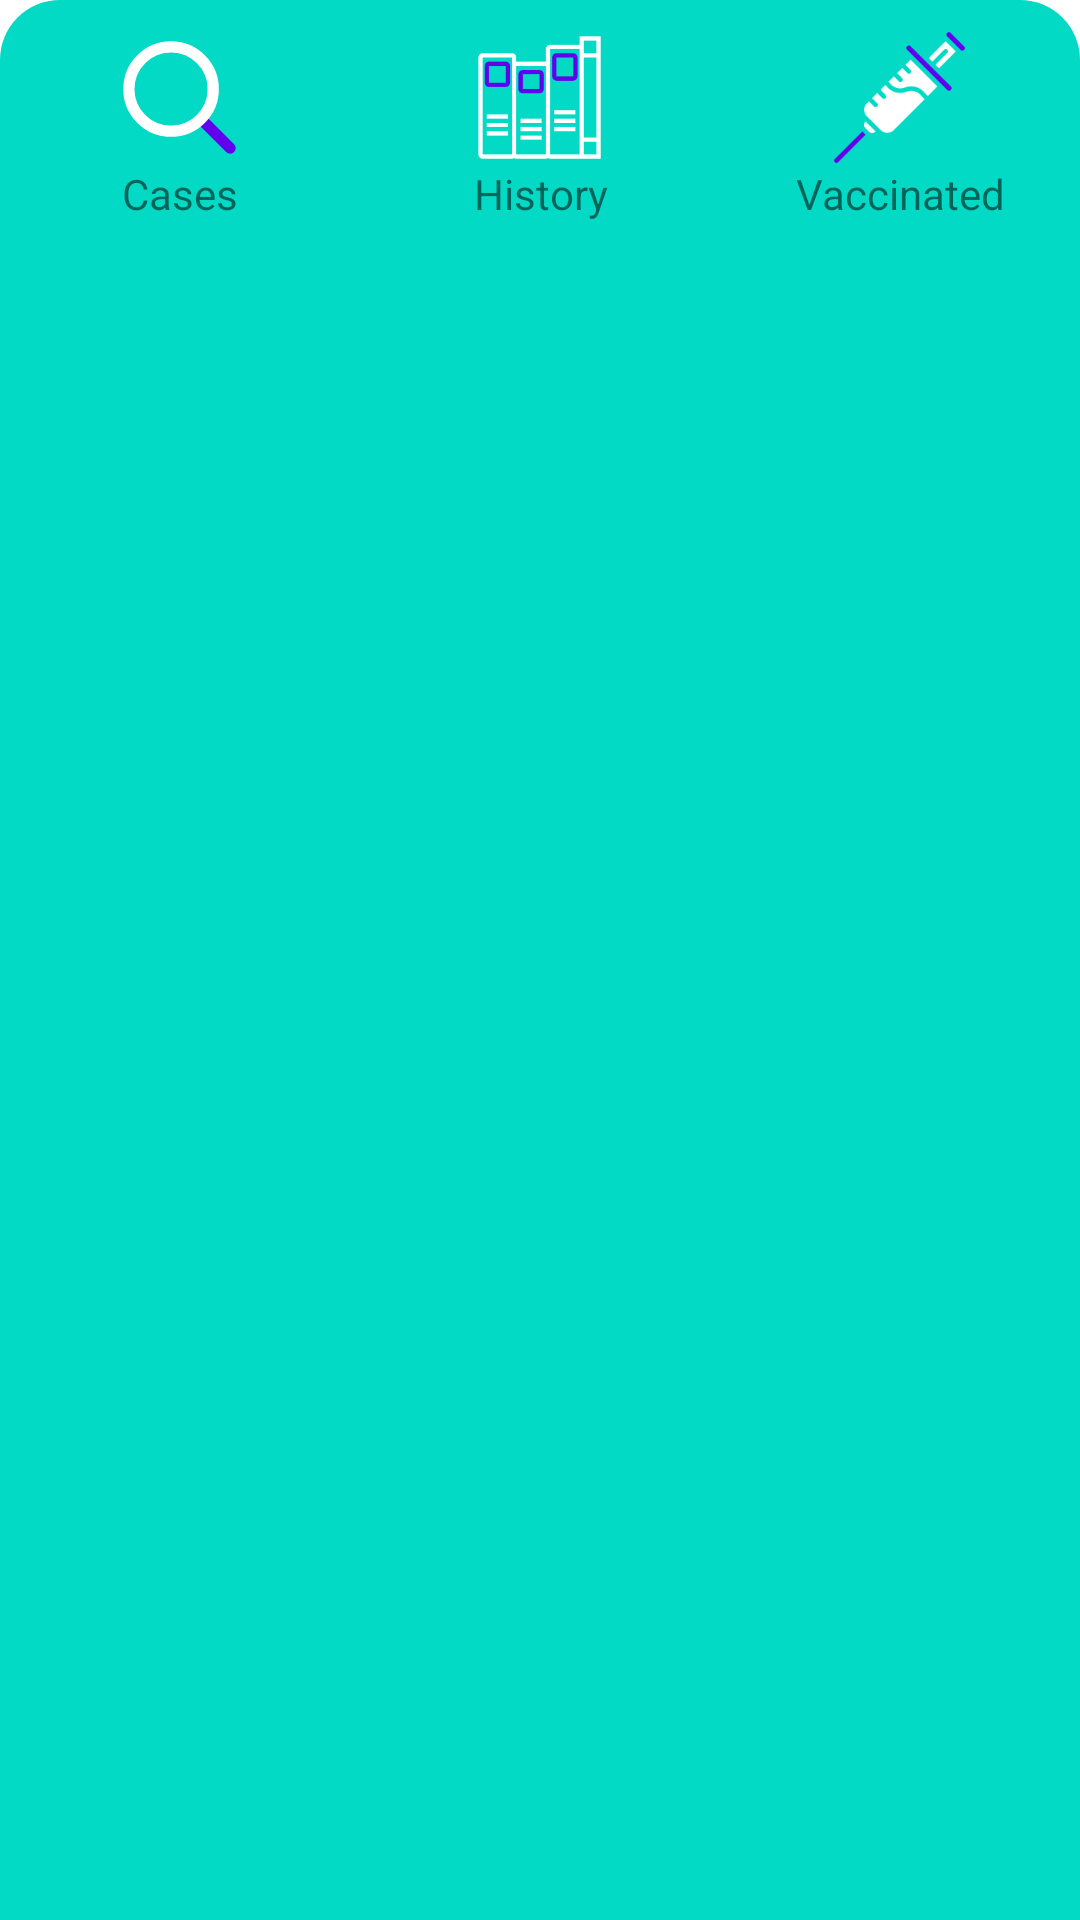

Point at icon controls on the screen. Image size 1080 × 1920, points as [x,y].
search: [179,97]
